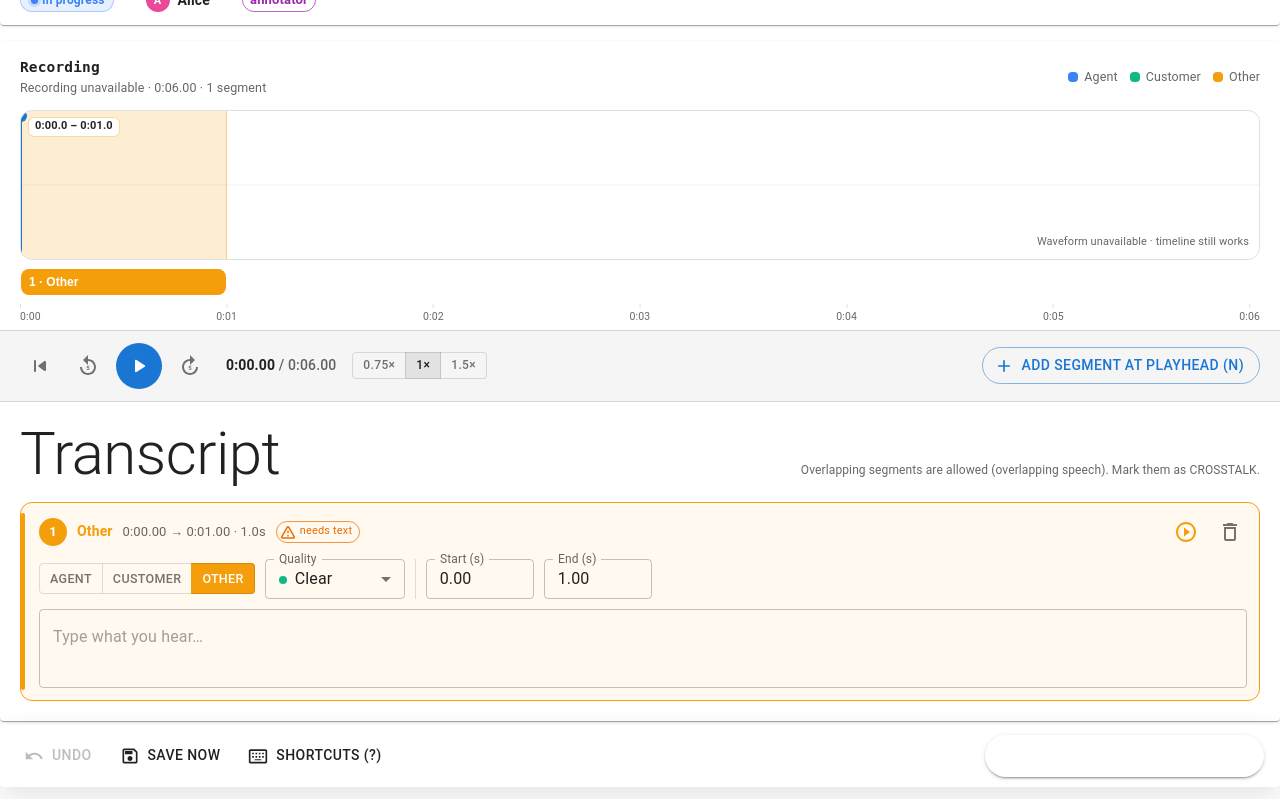
Test: AnnotationWorkspace › shows a failed save and lets the user retry
(page scrolled)
Type "x" into the text box named "Segment 1 text".
click(643, 648); type("x")  # box [53,625,1233,671]
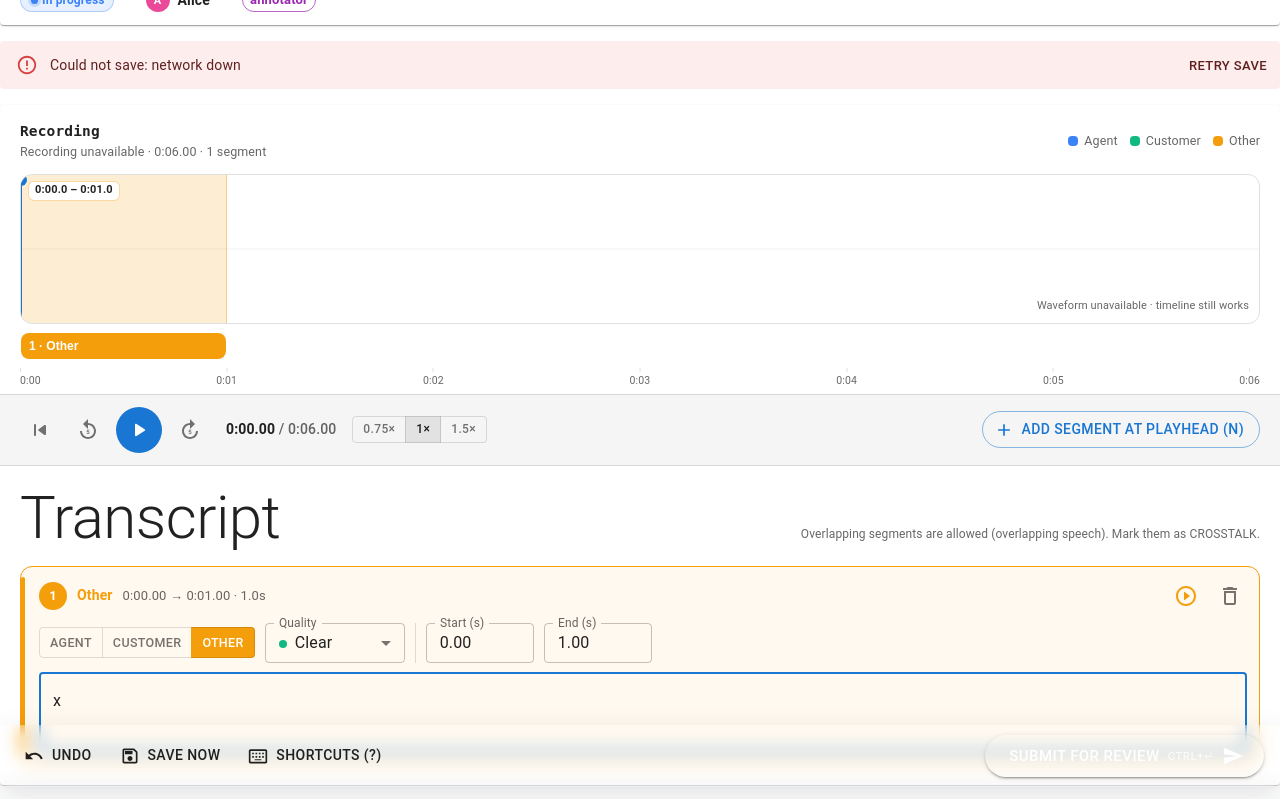
Expected: the text "Could not save: network down" is shown, [50,57,241,73]
Click the button "Retry save".
click(1228, 66)  # box [1184,51,1272,82]
(page scrolled)
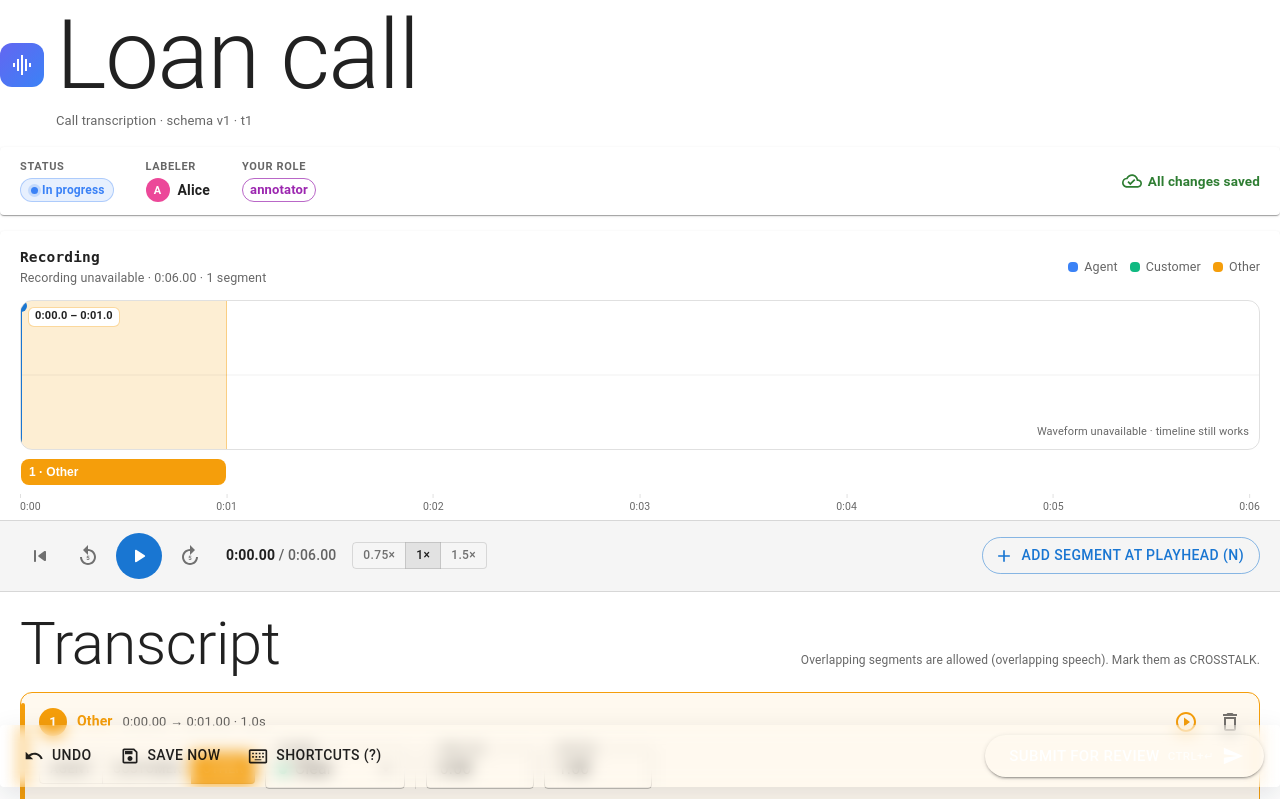
Expected: the message reads "All changes saved", [1148,173,1260,189]
